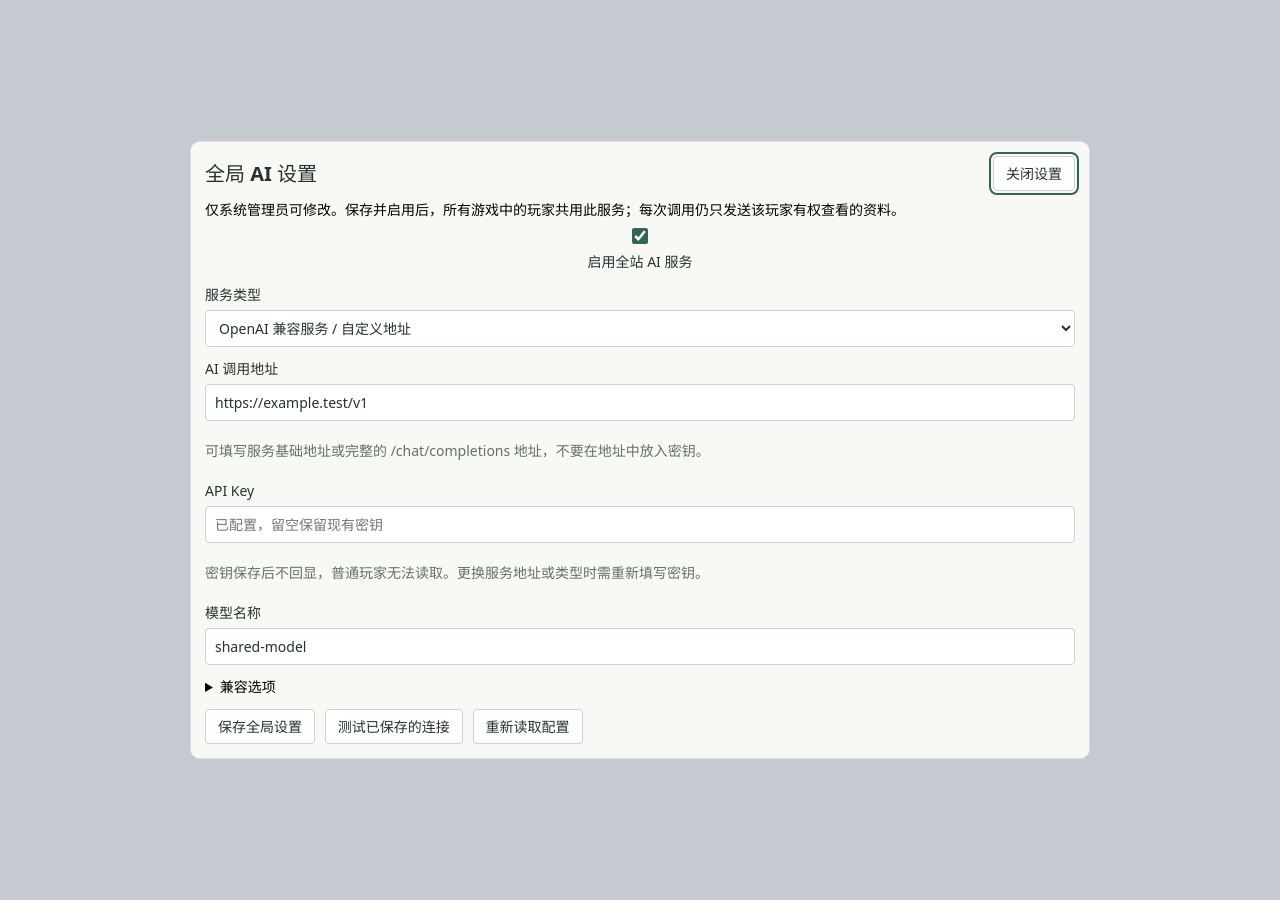
it: keeps unsaved values and does not retry automatically after a conflict
The image size is (1280, 900).
Type "private-new-key" into the password field labelled "API Key" at (640, 524), box [205,506,1075,543]
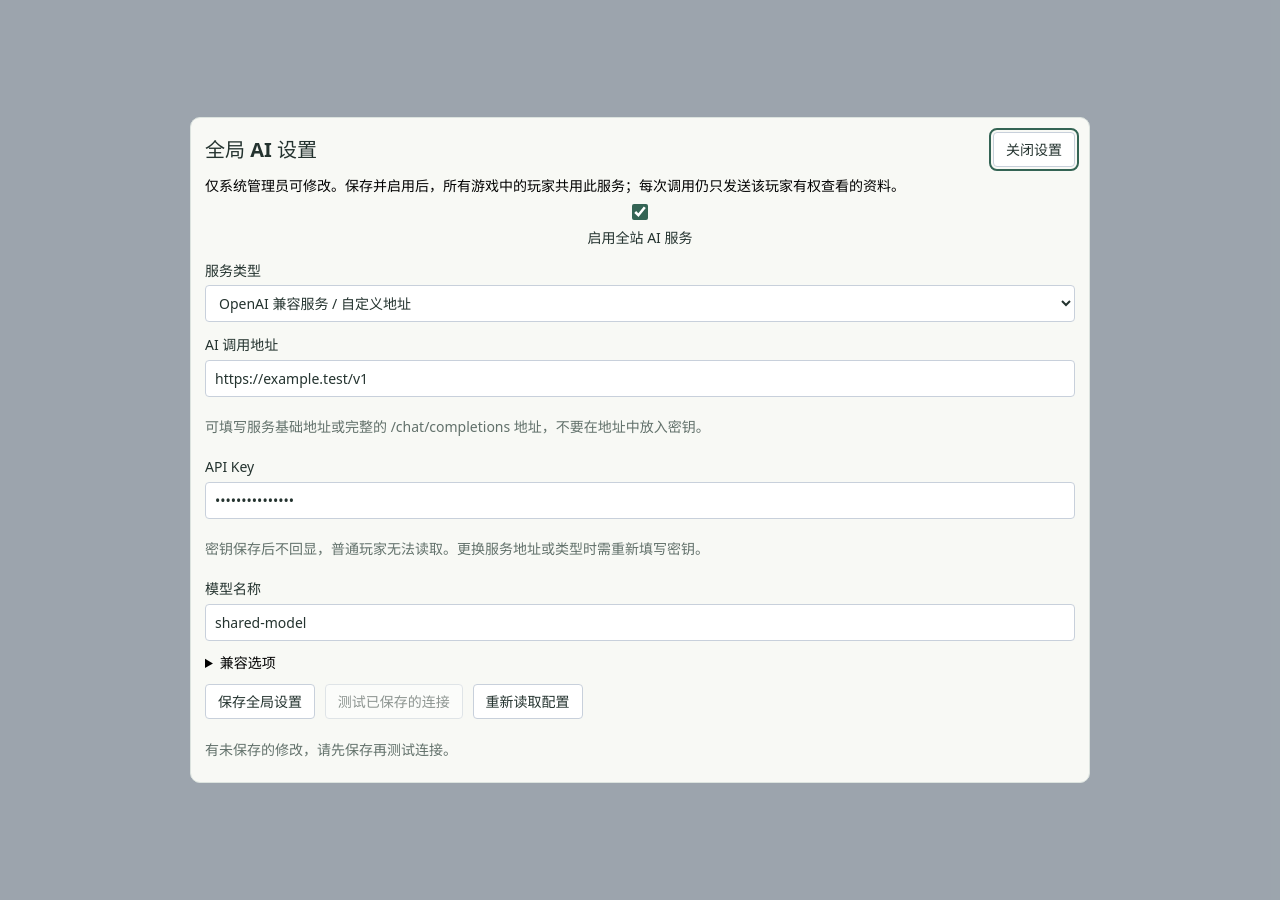
Click the button "保存全局设置" at (260, 702), box [205,684,315,719]
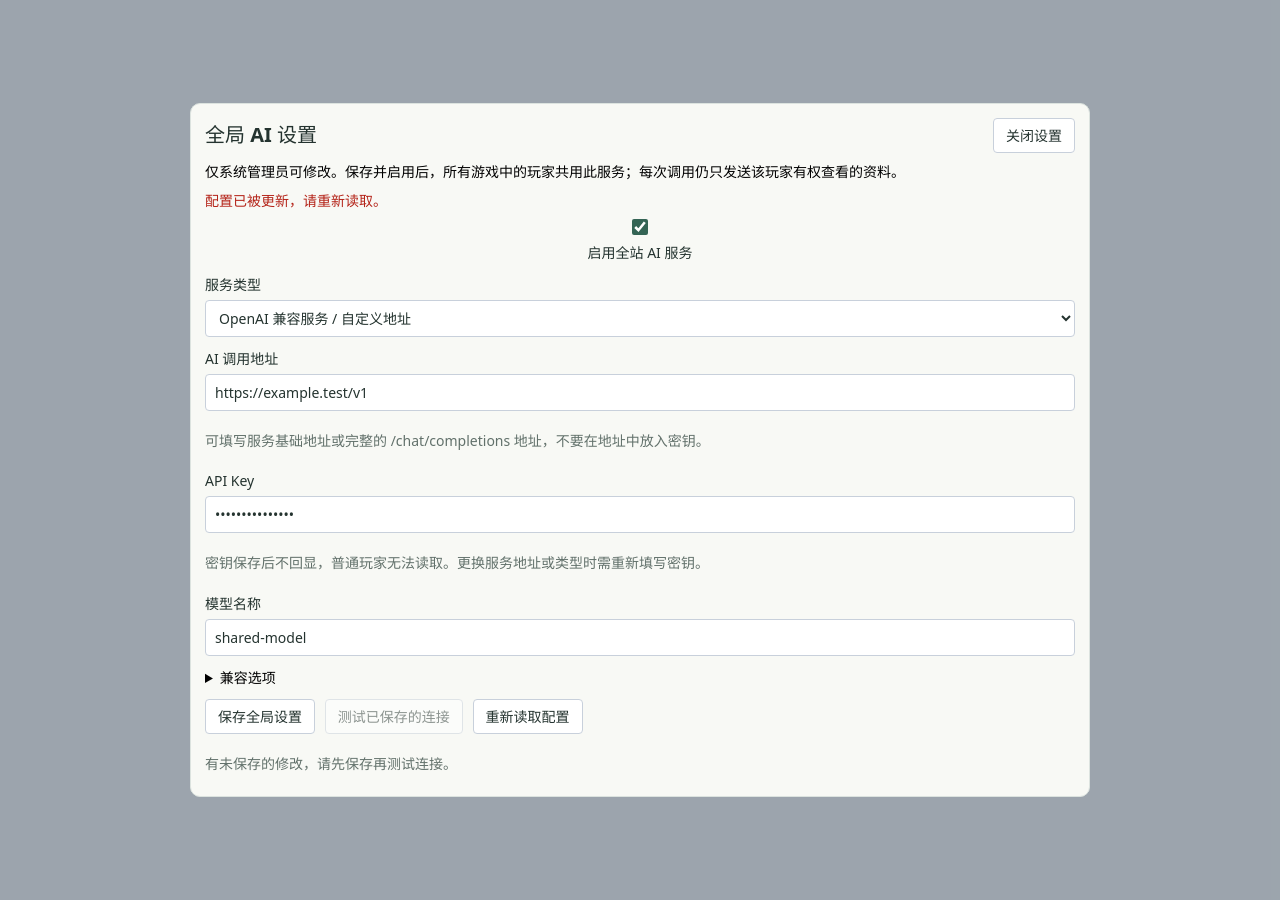
Expected: the message shows "重新读取", [205,191,387,210]
